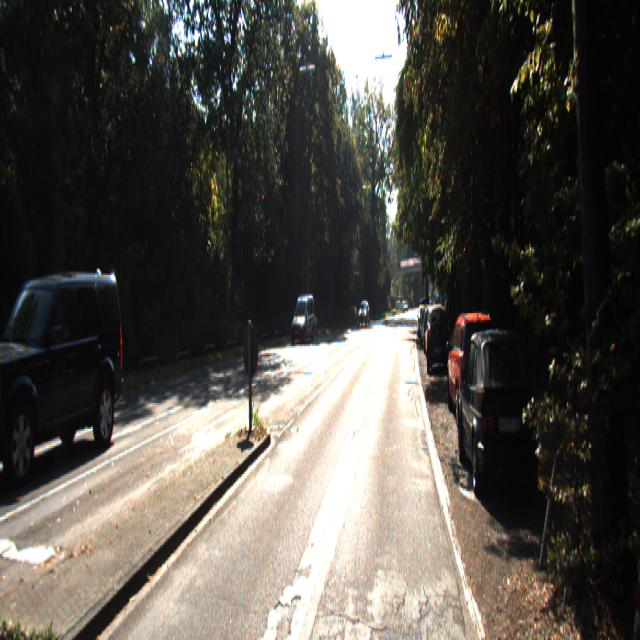Car: (0, 256, 132, 491), (459, 324, 547, 513), (445, 308, 502, 434), (426, 304, 448, 374), (290, 293, 316, 347)
